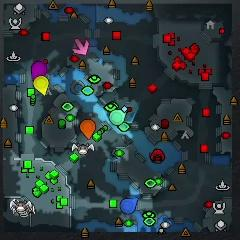p1: (120, 198, 138, 213)
p2: (110, 110, 127, 125)
p3: (31, 61, 47, 81)
p4: (34, 76, 49, 96)
p5: (80, 120, 95, 139)
x1: (73, 39, 89, 55)
